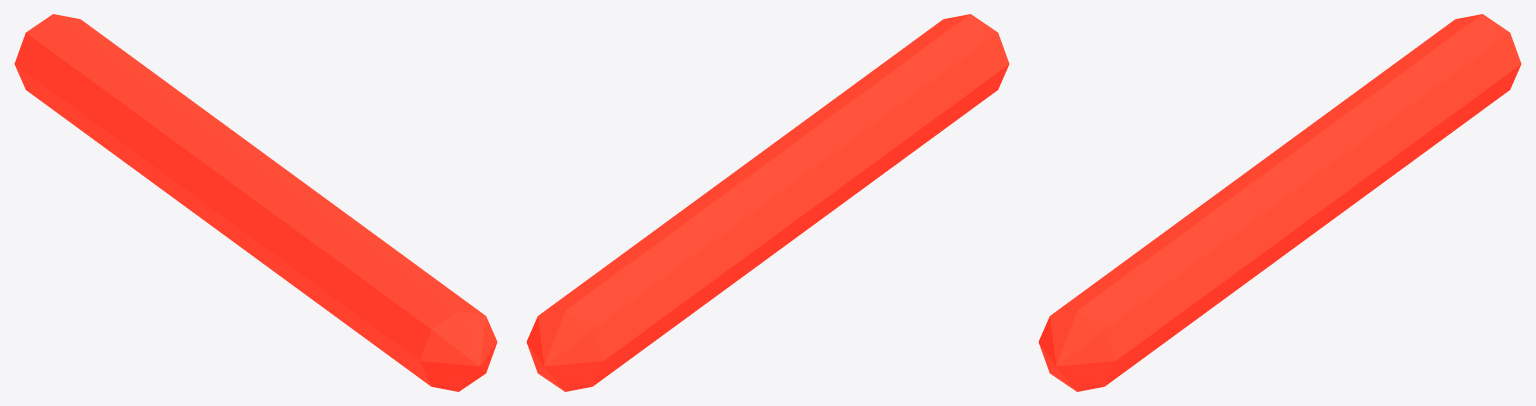
File: laserBolt.glb
3 views of the same model, side by side, from view 1: azimuth 30°, elevation 25°; view 2: azimuth 150°, elevation 25°; view 3: azimuth 330°, elevation 25° (orthographic).
Parts seen in each view (by area): view 1: Laser.Bolt; view 2: Laser.Bolt; view 3: Laser.Bolt.
Boxes of the visible parts, x1,y1,x2,y2 form: Laser.Bolt: (14,14,497,391); Laser.Bolt: (526,14,1009,391); Laser.Bolt: (1038,14,1521,391).
Size of what is drawn, in the model's own units: 0.5999 by 0.6003 by 6.
